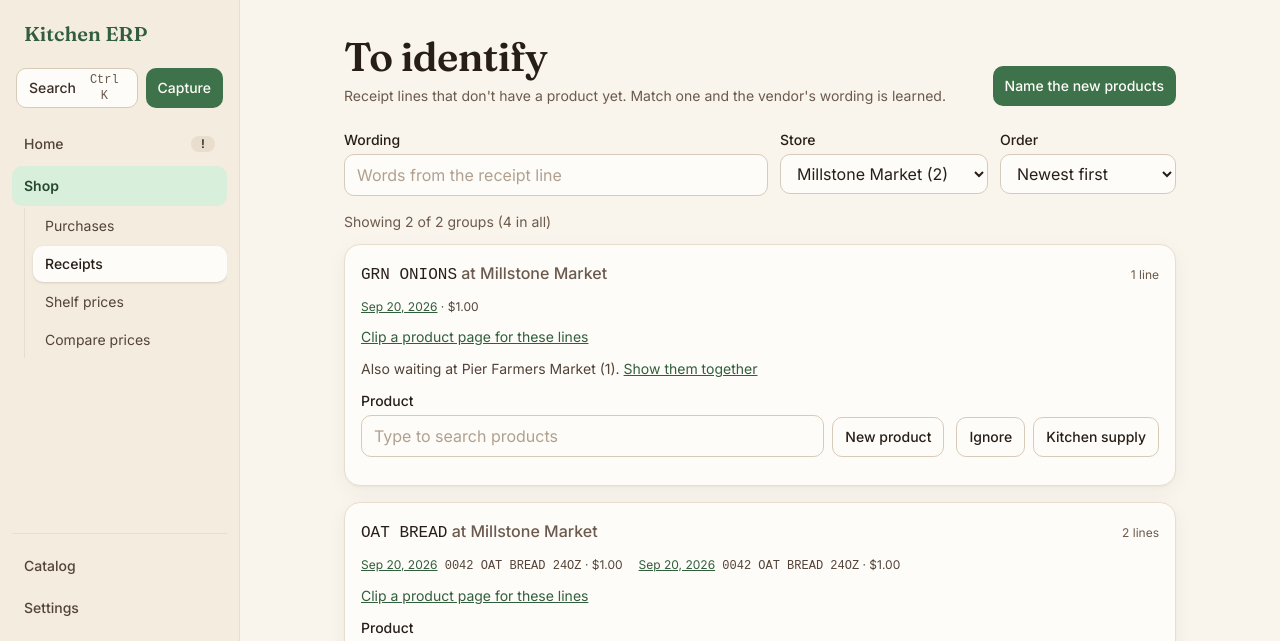
it: to-identify card hints › names the other stores where the wording waits, and lists them together
Click the button "Show them together" at [691, 369], box [624,359,758,379]
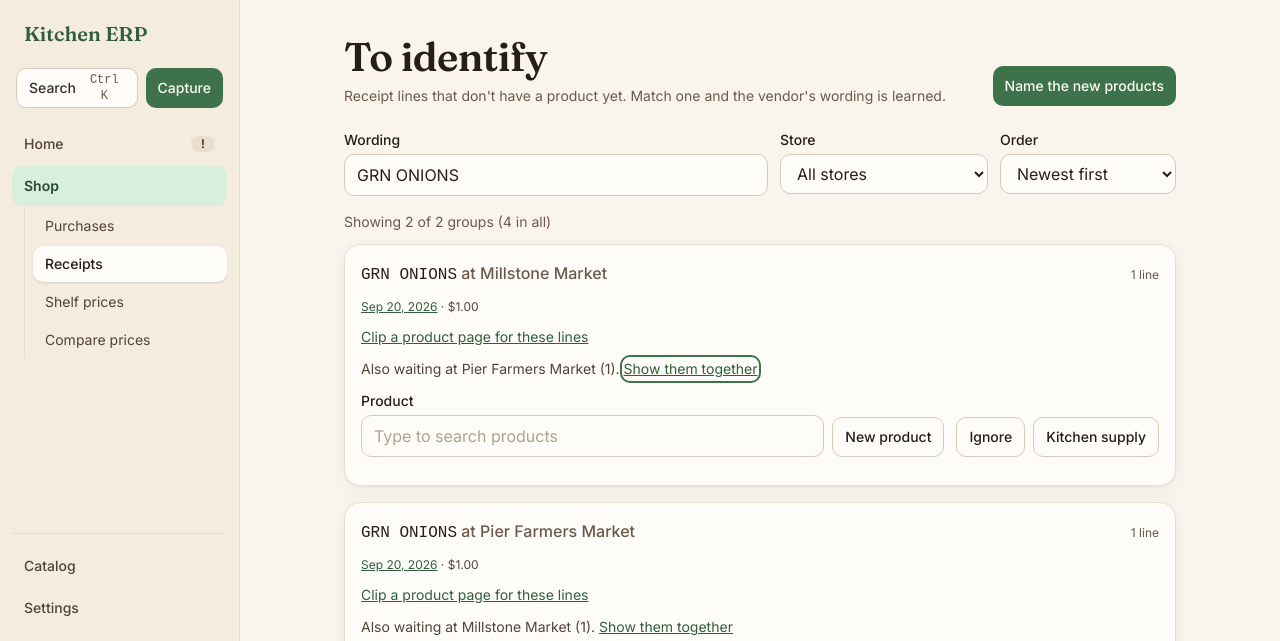
Check: the dropdown labelled "Store" shows "All stores", box [780,154,988,194]
Check: the field labelled "Wording" holds "GRN ONIONS", box [344,154,768,196]
